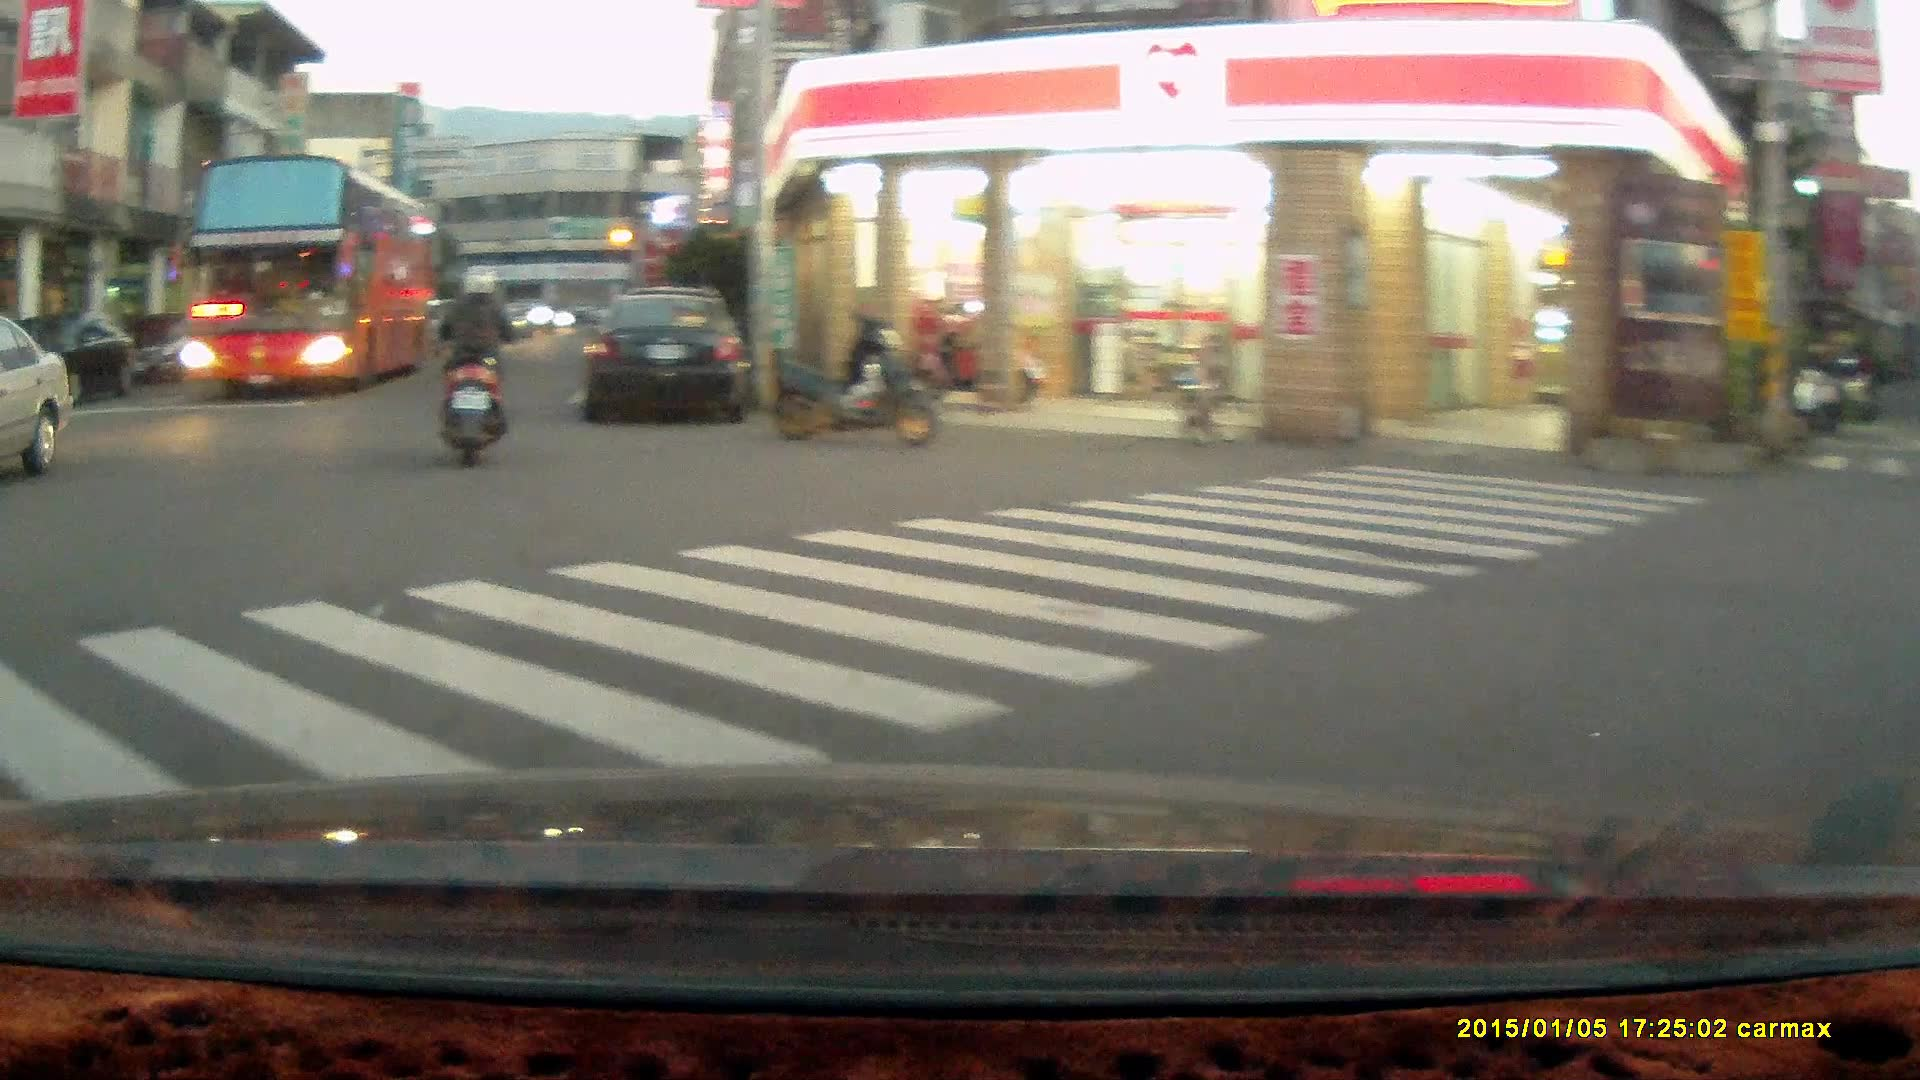rider: (428, 261, 521, 468)
vehicle: (183, 152, 451, 398), (581, 288, 757, 426), (6, 313, 143, 408)
